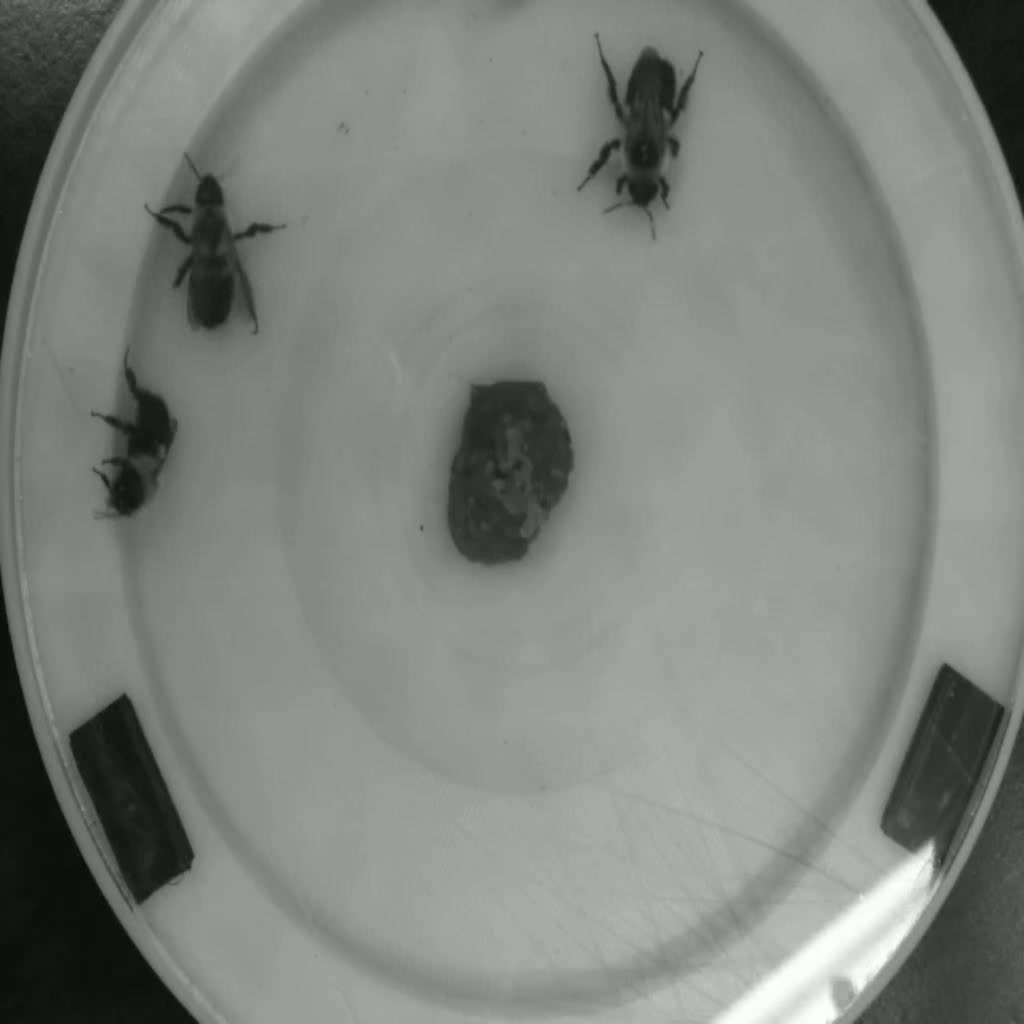bee: (90, 376, 185, 529), (596, 58, 688, 209), (180, 181, 249, 353)
